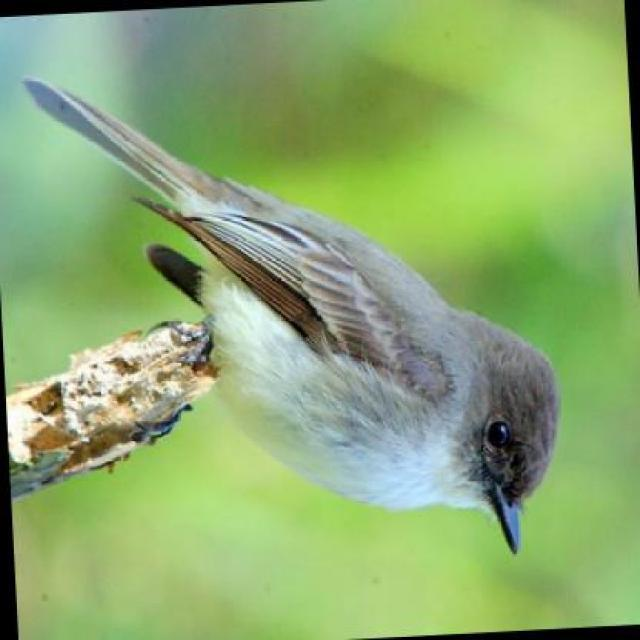Bird: (9, 55, 582, 538)
